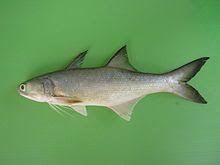Fourfinger Threadfish: (17, 46, 210, 123)
